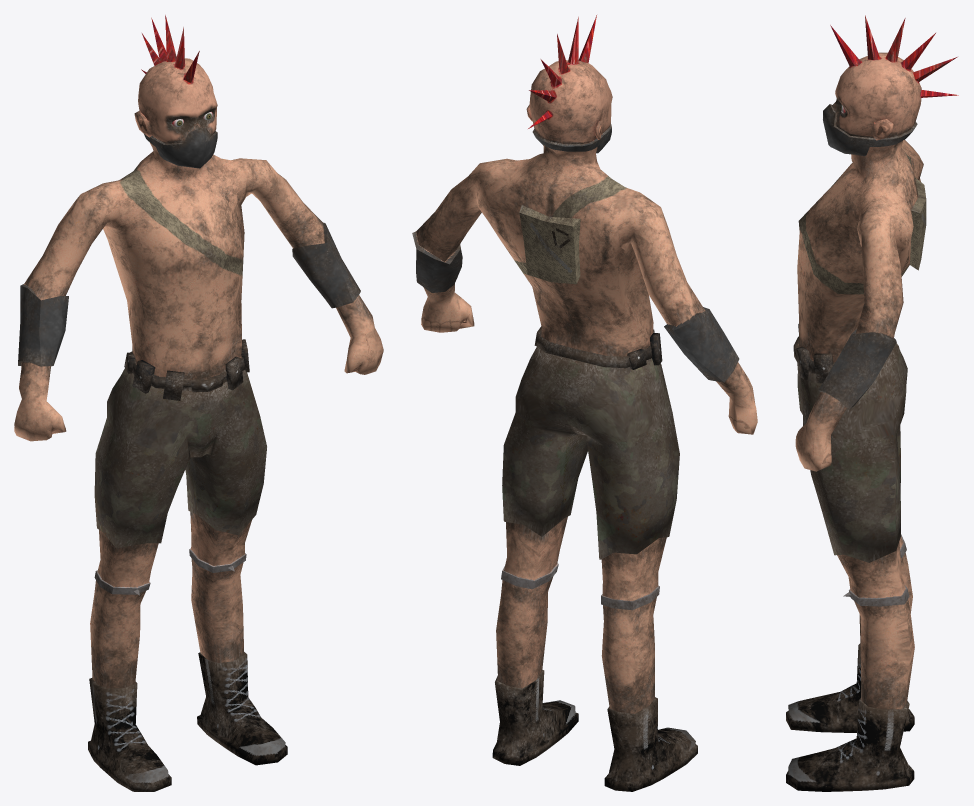
File: Anim_idle_npc2.0045.obj
The picture shows the model from 3 angles, left to right: view 1: azimuth 30°, elevation 25°; view 2: azimuth 150°, elevation 25°; view 3: azimuth 270°, elevation 25°; orthographic projection. The views are drawn at different scales.
Parts seen in each view (by area): view 1: polySurface1; view 2: polySurface1; view 3: polySurface1.
Part boxes in pixels (left/top/right/bottom): polySurface1: left=14, top=15, right=383, bottom=791; polySurface1: left=412, top=15, right=757, bottom=791; polySurface1: left=786, top=15, right=958, bottom=791.
Size of the model in its own units: 5.12 by 10.18 by 2.16.
